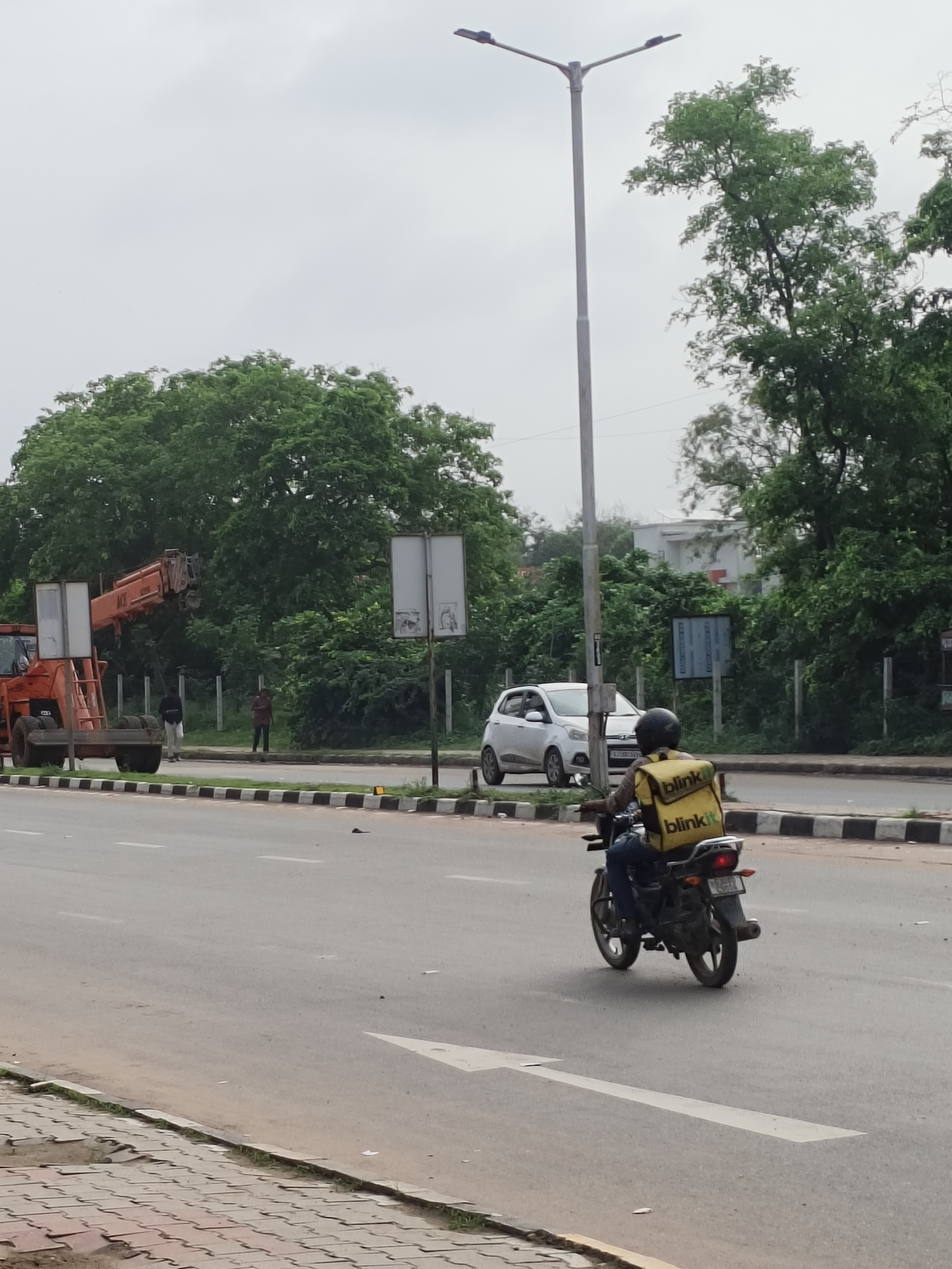BikeWithRider: (571, 700, 769, 997)
Helmet: (627, 702, 687, 762)
